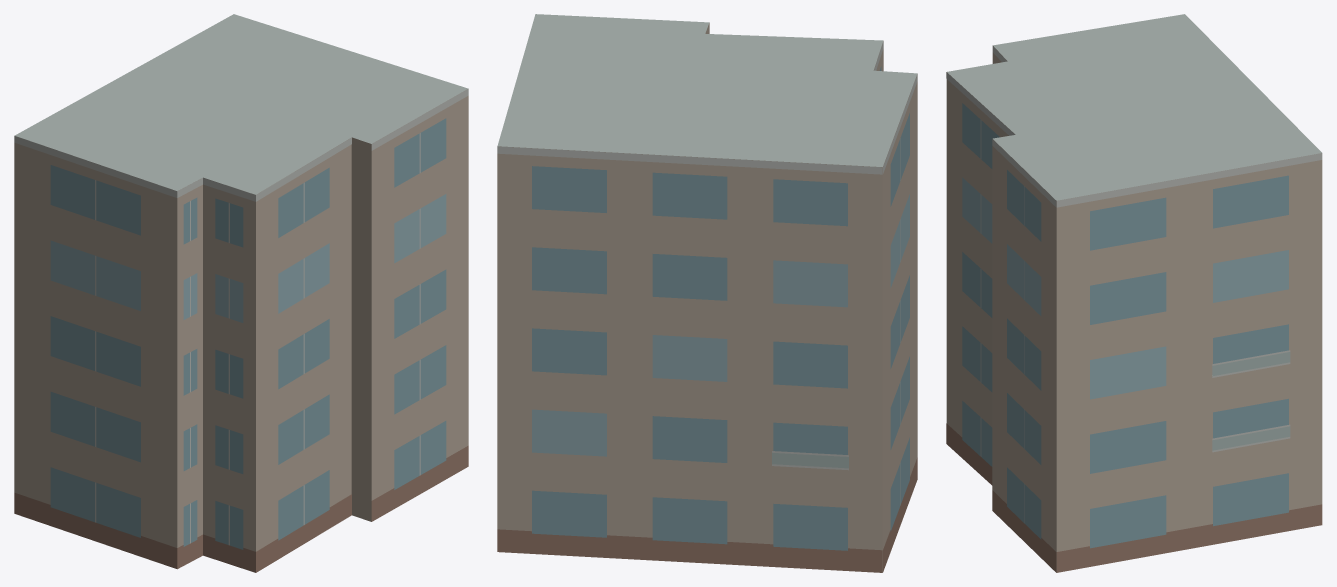
The model's file is survey-upis-32853835.glb.
3 views of the same model, side by side, from view 1: azimuth 30°, elevation 25°; view 2: azimuth 150°, elevation 25°; view 3: azimuth 270°, elevation 25° (orthographic). The views are drawn at different scales.
Parts seen in each view (by area): view 1: survey-upis-32853835.tmp; view 2: survey-upis-32853835.tmp; view 3: survey-upis-32853835.tmp.
Boxes of the visible parts, box(x1,y1,x2,y2) form: survey-upis-32853835.tmp: box(14, 14, 468, 572); survey-upis-32853835.tmp: box(497, 14, 917, 572); survey-upis-32853835.tmp: box(946, 14, 1322, 572).
Bounding box in the file's own units: 14.22 × 13.2 × 12.09.
